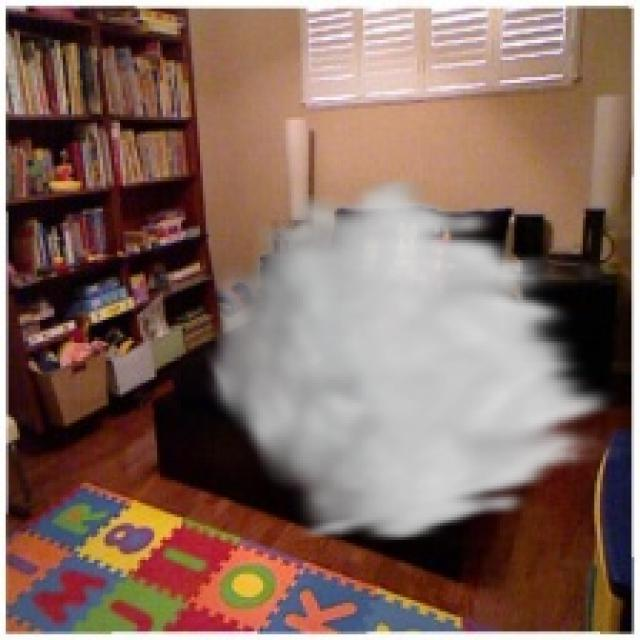smoke: (200, 171, 626, 546)
